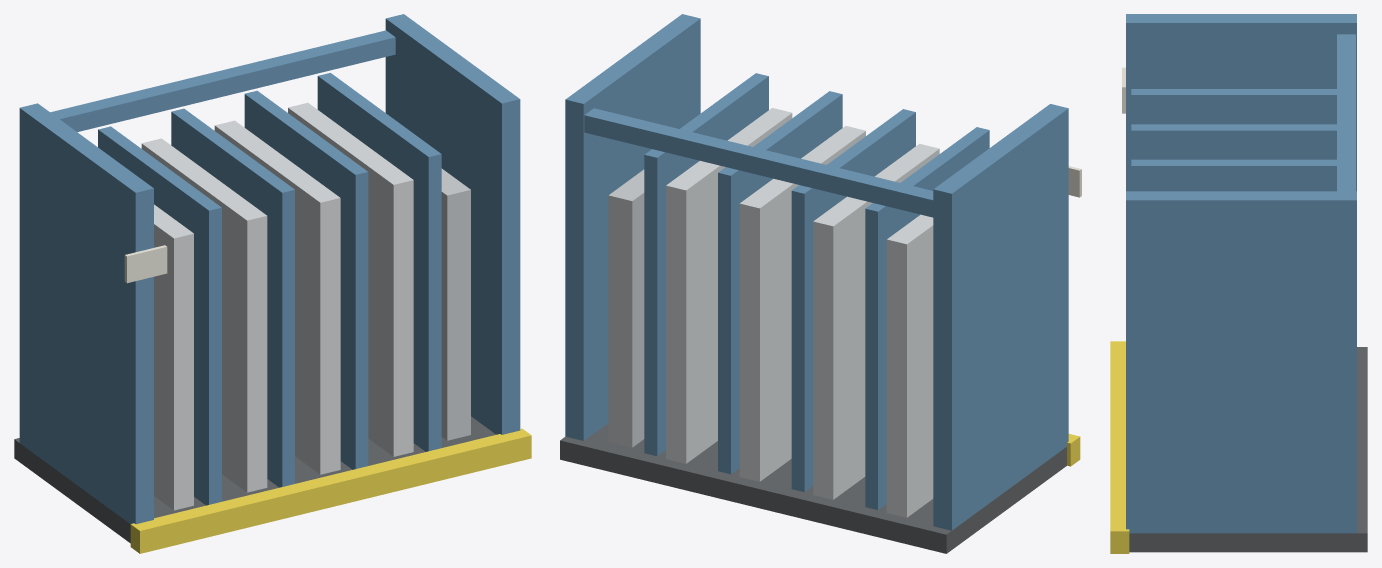
File: sheet-metal-storage-rack.glb
The picture shows the model from 3 angles, left to right: view 1: azimuth 30°, elevation 25°; view 2: azimuth 150°, elevation 25°; view 3: azimuth 270°, elevation 25°; orthographic projection.
Visible parts, largest first — view 1: machine-shop-and-factory-hall-sheet-metal-rack; view 2: machine-shop-and-factory-hall-sheet-metal-rack; view 3: machine-shop-and-factory-hall-sheet-metal-rack.
Boxes of the visible parts, bbox=[...] form: machine-shop-and-factory-hall-sheet-metal-rack: bbox=[14, 14, 531, 553]; machine-shop-and-factory-hall-sheet-metal-rack: bbox=[560, 14, 1081, 553]; machine-shop-and-factory-hall-sheet-metal-rack: bbox=[1110, 14, 1367, 553].
Bounding box in the file's own units: 2.18 × 1.85 × 1.22.
